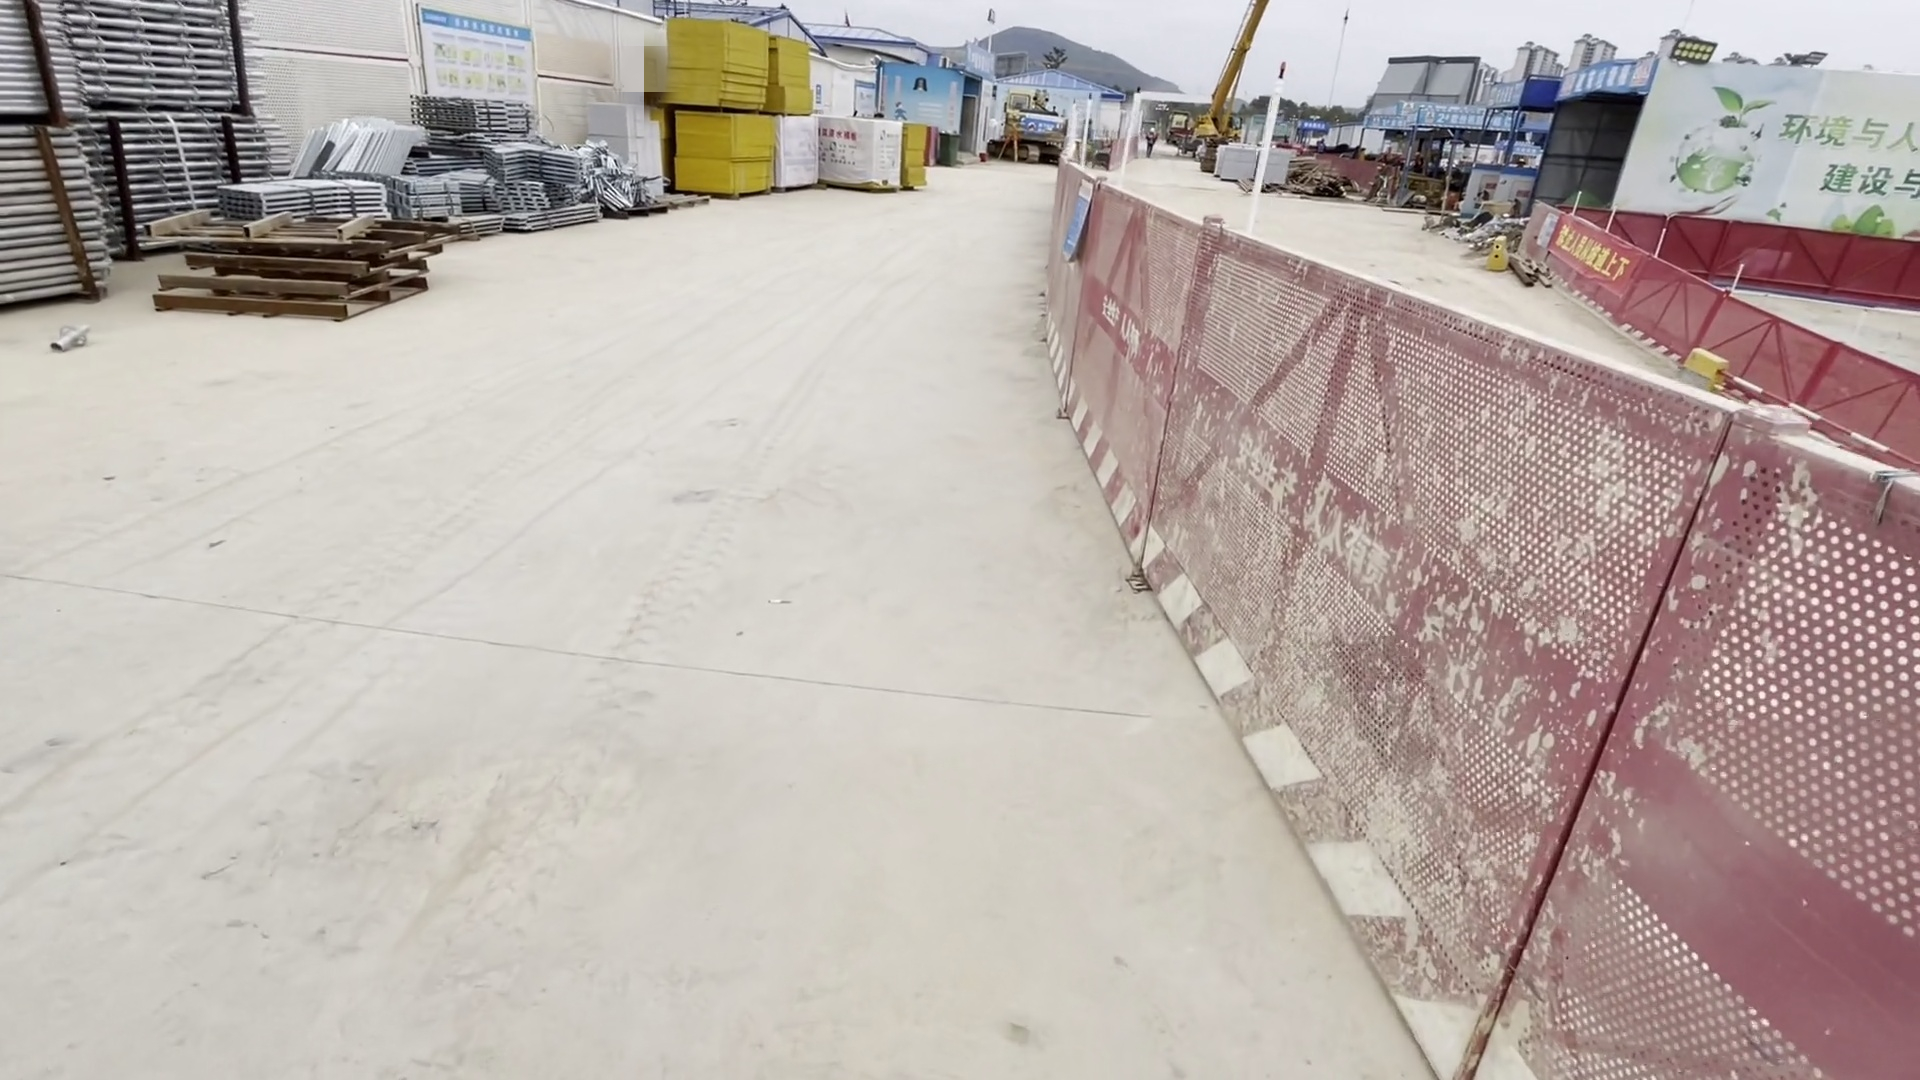board: (658, 22, 782, 214)
fence: (1047, 179, 1909, 1069)
scaffold: (3, 5, 260, 320), (262, 92, 621, 244)
